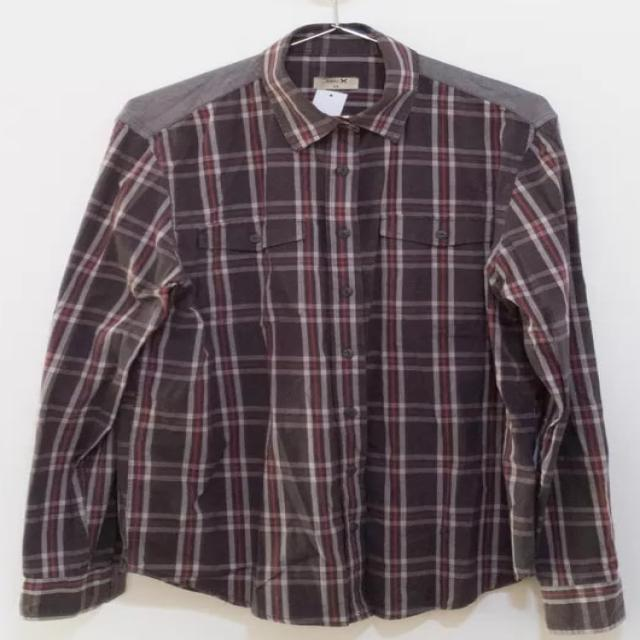long sleeve shirt: (17, 22, 628, 634)
